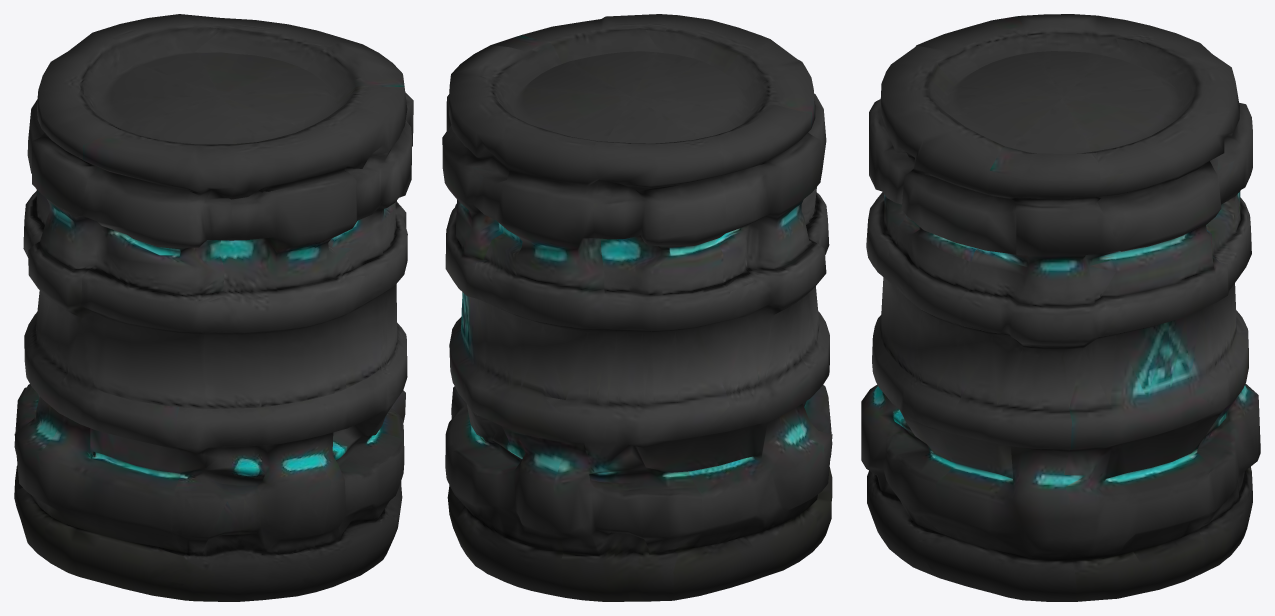
Rendered from prop_energy_barrel.glb.
3 views of the same model, side by side, from view 1: azimuth 30°, elevation 25°; view 2: azimuth 150°, elevation 25°; view 3: azimuth 270°, elevation 25° (orthographic).
Parts seen in each view (by area): view 1: tripo_node_f8af8ddc-c948-4b69-960c-9c9c116603a6; view 2: tripo_node_f8af8ddc-c948-4b69-960c-9c9c116603a6; view 3: tripo_node_f8af8ddc-c948-4b69-960c-9c9c116603a6.
Part boxes in pixels (box(x1,y1,x2,y2)): tripo_node_f8af8ddc-c948-4b69-960c-9c9c116603a6: box(14, 14, 413, 601); tripo_node_f8af8ddc-c948-4b69-960c-9c9c116603a6: box(442, 14, 832, 601); tripo_node_f8af8ddc-c948-4b69-960c-9c9c116603a6: box(861, 14, 1260, 601).
Bounding box in the file's own units: 0.8457 × 0.998 × 0.8144.
1 material, 1 textured.
